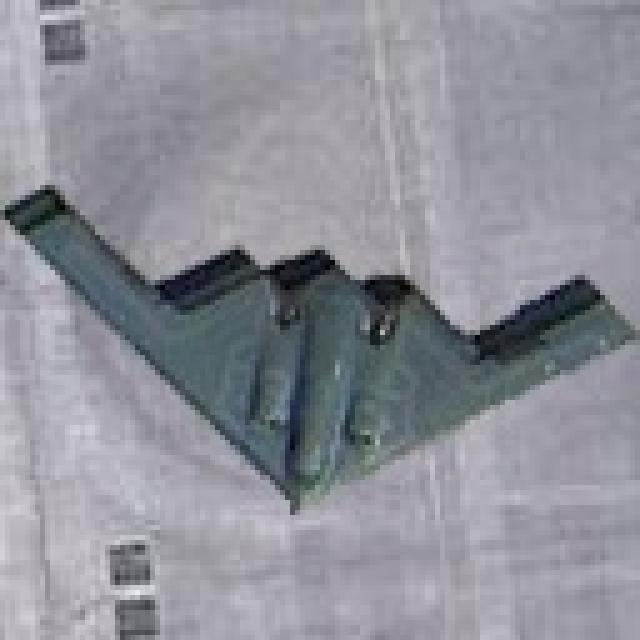B-2_TopDown: (0, 170, 635, 515)
